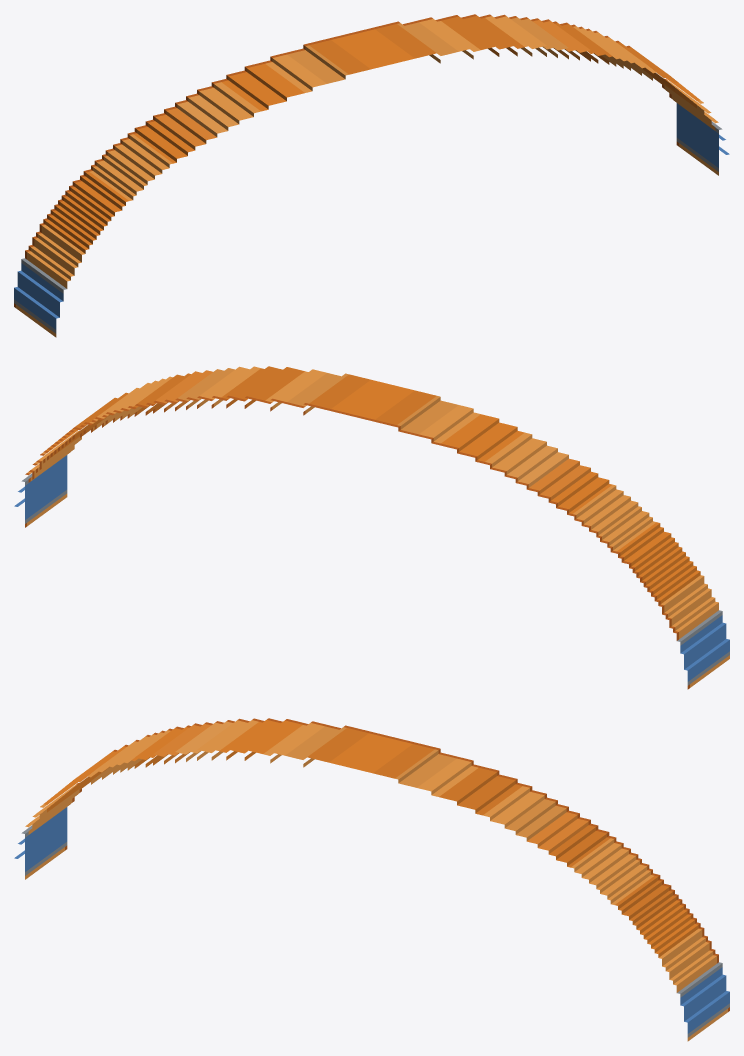
File: lib_vault.glb
The picture shows the model from 3 angles, top to bottom: view 1: azimuth 30°, elevation 25°; view 2: azimuth 150°, elevation 25°; view 3: azimuth 330°, elevation 25°; orthographic projection.
Parts seen in each view (by area): view 1: roof; view 2: roof; view 3: roof.
Boxes of the visible parts, x1,y1,x2,y2 form: roof: (14,14,729,337); roof: (14,366,729,689); roof: (14,718,729,1041).
Size of the model in its own units: 18.4 by 5 by 2.
